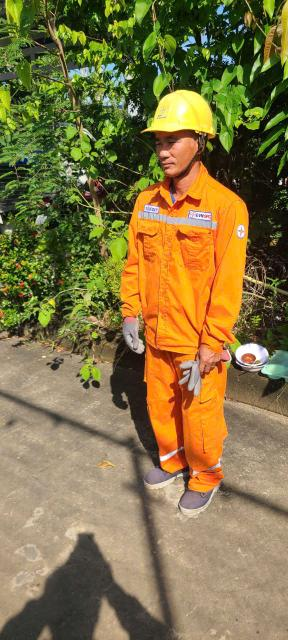gloves: (178, 355, 212, 396), (116, 313, 149, 352)
harness: (139, 87, 232, 141)
shoes: (138, 441, 188, 487), (175, 467, 222, 515)
